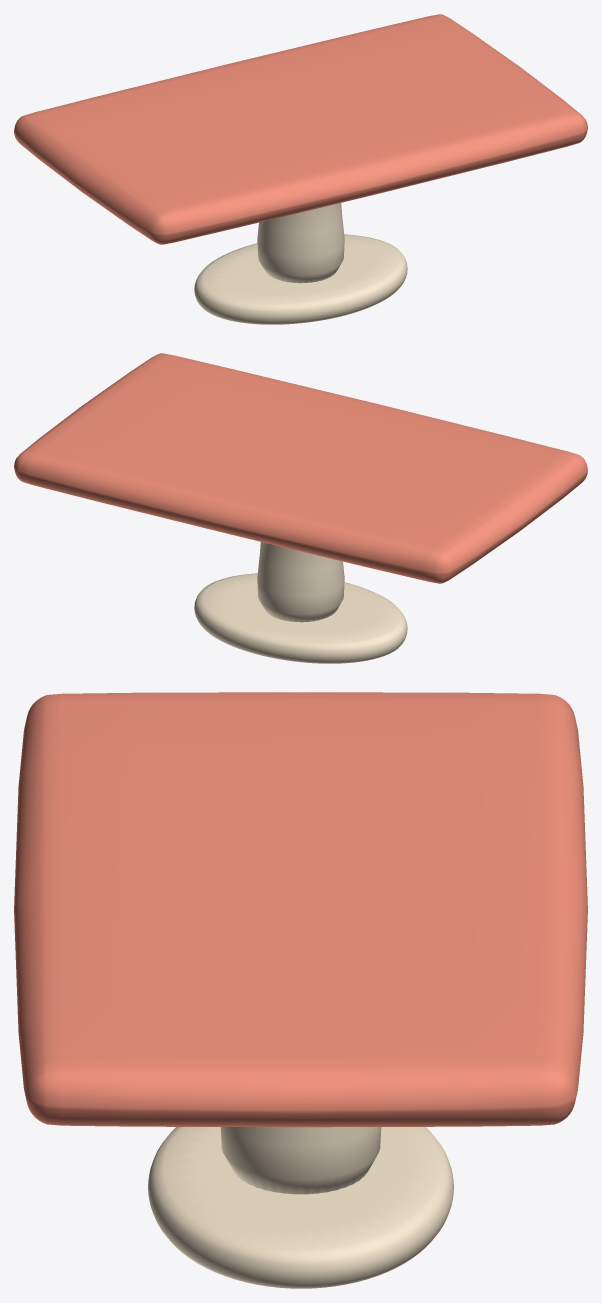
The model's file is coffee_table_b.glb.
3 views of the same model, one above another, from view 1: azimuth 30°, elevation 25°; view 2: azimuth 150°, elevation 25°; view 3: azimuth 270°, elevation 25° (orthographic). The views are drawn at different scales.
Parts seen in each view (by area): view 1: body; view 2: body; view 3: body.
Boxes of the visible parts, bbox=[...] form: body: bbox=[14, 14, 587, 324]; body: bbox=[14, 353, 587, 663]; body: bbox=[14, 692, 587, 1288].
Size of the model in its own units: 1 by 0.38 by 0.6.
